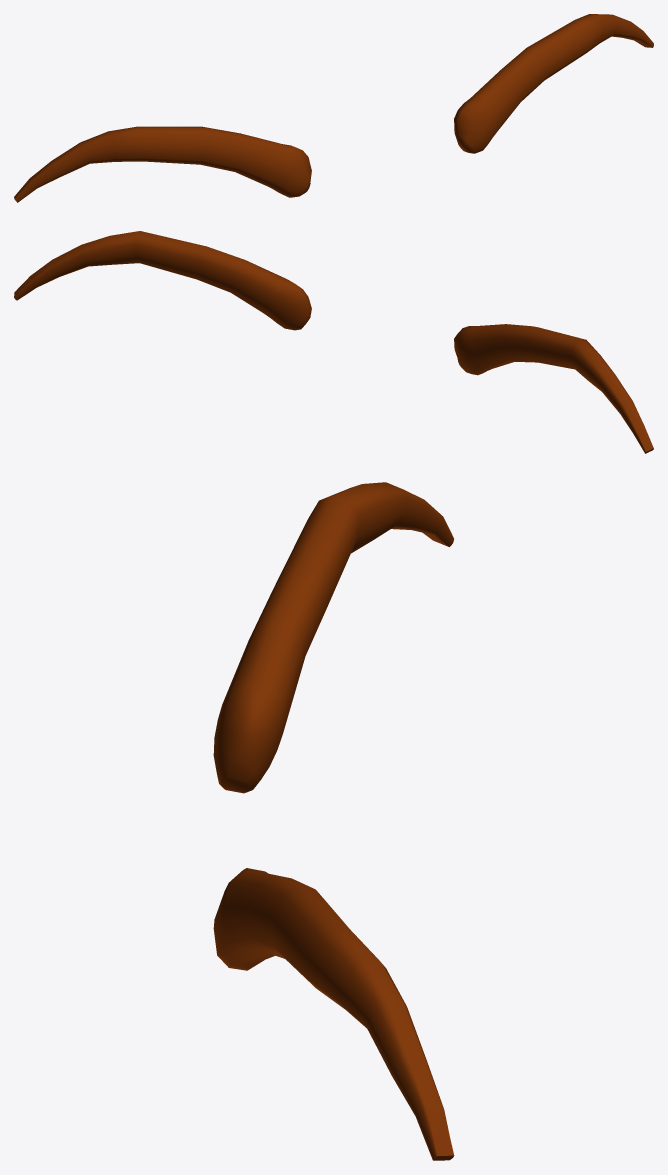
File: Eyebrows_04_02.fbx
3 views of the same model, one above another, from view 1: azimuth 30°, elevation 25°; view 2: azimuth 150°, elevation 25°; view 3: azimuth 270°, elevation 25° (orthographic). The views are drawn at different scales.
Parts seen in each view (by area): view 1: Eyebrows_04_02; view 2: Eyebrows_04_02; view 3: Eyebrows_04_02.
Part boxes in pixels (<box>): Eyebrows_04_02: <box>14,14,653,202</box>; Eyebrows_04_02: <box>14,231,653,453</box>; Eyebrows_04_02: <box>213,482,454,1160</box>.
Bounding box in the file's own units: 19.76 × 2.45 × 3.22.
